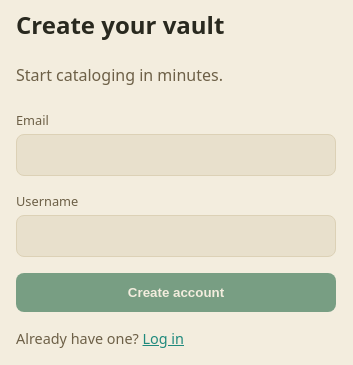
SignupComponent › disables submit until the form is valid
Check: the submit button is disabled, box x1=16 y1=273 x2=336 y2=312
Type "aldric@realm.com" into the field labelled "Email".
click(176, 155); type("aldric@realm.com")  # box x1=16 y1=134 x2=336 y2=176
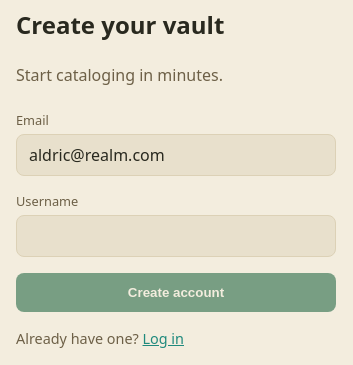
Type "aldric" into the field labelled "Username".
click(176, 236); type("aldric")  # box x1=16 y1=215 x2=336 y2=257
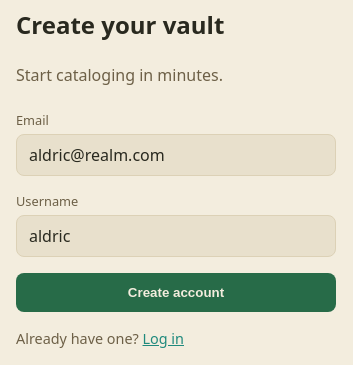
Check: the submit button is enabled, box x1=16 y1=273 x2=336 y2=312
